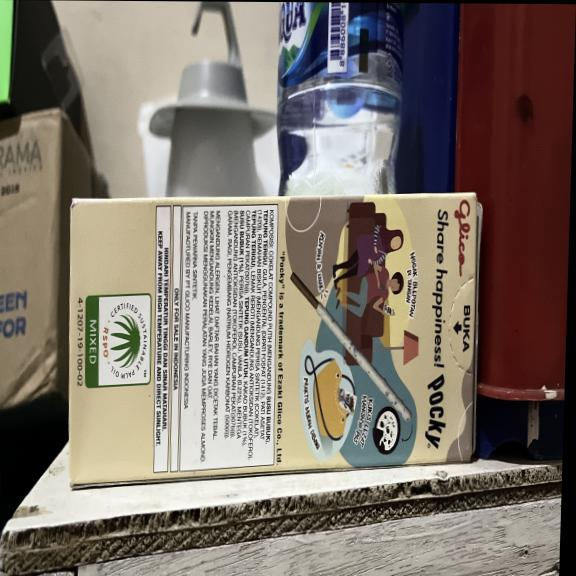Kertas: (70, 194, 477, 490)
